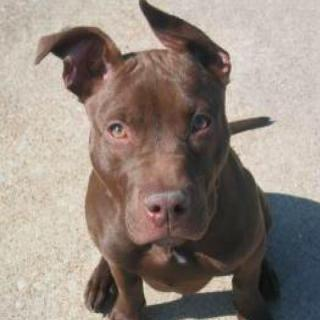dog: (38, 23, 235, 256)
nose: (142, 185, 191, 229)
